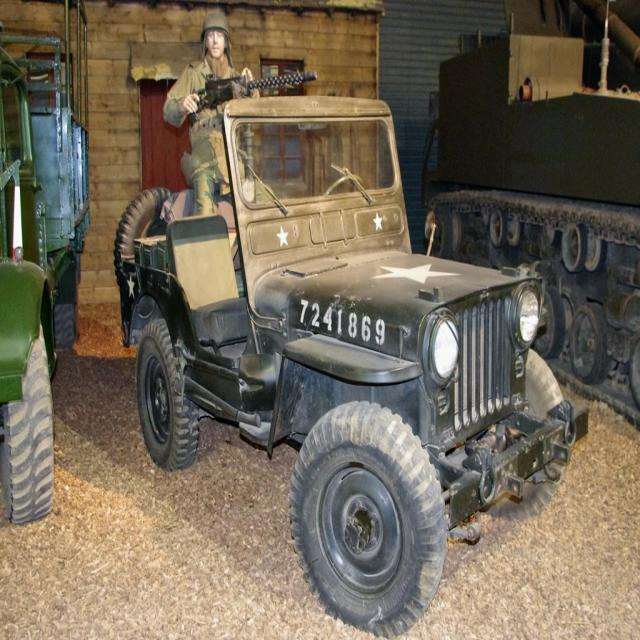car: (106, 91, 595, 638)
